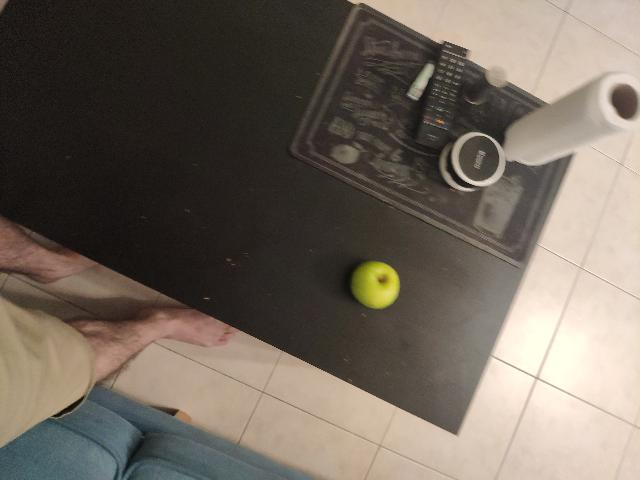apple: (419, 236, 473, 301)
